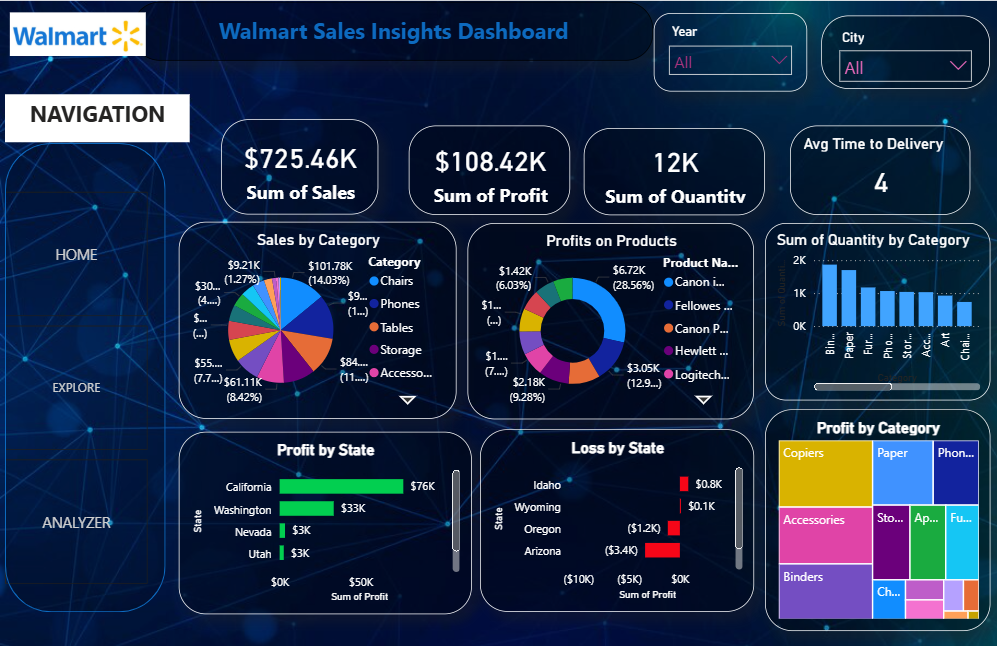

The dashboard page shown, as its layout file describes it:
{"tool":"powerbi","page":{"name":"EXPLORE","canvas":[1280,720],"ordinal":1},"visuals":[{"type":"card","fields":{"Values":["Sum(Walmart.Sales)"]},"box":[424.6,138.8,172.5,105.1],"z":0},{"type":"card","fields":{"Values":["Sum(Walmart.Profit)"]},"box":[630.8,145.6,177.9,98.4],"z":1000},{"type":"card","fields":{"Values":["Sum(Walmart.Quantity)"]},"box":[823.6,148.3,199.5,95.7],"z":2000},{"type":"barChart","title":" Profit by State","fields":{"Category":["Walmart.State"],"Y":["Sum(Walmart.Profit)"]},"box":[378.8,482.6,322.2,200.8],"z":3000},{"type":"barChart","title":" Loss by State","fields":{"Category":["Walmart.State"],"Y":["Sum(Walmart.Profit)"]},"box":[709,479.9,301.9,200.8],"z":4000},{"type":"treemap","title":" Profit by Category","fields":{"Values":["Sum(Walmart.Profit)"],"Group":["Walmart.Category"]},"box":[1023.1,458.3,248,244],"z":5000},{"type":"pieChart","title":"Sales by Category","fields":{"Category":["Walmart.Category"],"Y":["Sum(Walmart.Sales)"]},"box":[378.8,252.1,306,217],"z":6000},{"type":"card","title":"Avg Time to Delivery","fields":{"Values":["Avg(Walmart.Delivery Date)"]},"box":[1050,145.6,198.1,98.4],"z":7000},{"type":"donutChart","title":"Profits on Products","fields":{"Category":["Walmart.Product Name"],"Y":["Sum(Walmart.Profit)"]},"box":[695.5,253.4,315.4,215.7],"z":8000},{"type":"textbox","title":"Walmart Sales Insights Dashboard","box":[327.6,9.4,572.9,64.7],"z":9000},{"type":"slicer","fields":{"Values":["Walmart.City"]},"box":[1094.5,24.3,186,82.2],"z":10000},{"type":"image","box":[168.5,16.2,195.5,58],"z":11000},{"type":"pageNavigator","box":[187.4,218.4,157.7,431.3],"z":12000},{"type":"textbox","box":[187.4,111.9,203.5,52.6],"z":13000},{"type":"shape","box":[187.4,164.4,176.6,516.3],"z":14000},{"type":"columnChart","fields":{"Category":["Walmart.Category"],"Y":["Sum(Walmart.Quantity)"]},"box":[1023.1,253.4,248,195.5],"z":15000},{"type":"slicer","title":"Year","fields":{"Values":["Walmart.Year"]},"box":[908.5,22.9,169.8,87.6],"z":16000}]}

Visuals, with their boxes on the page's 1280x720 design canvas (x1, y1, x2, y2). These are canvas units, not pixel positions in the 997x646 screenshot, which may show the page scaled, cropped or inside an application window:
card - Sum(Walmart.Sales): [x1=425, y1=139, x2=597, y2=244]
card - Sum(Walmart.Profit): [x1=631, y1=146, x2=809, y2=244]
card - Sum(Walmart.Quantity): [x1=824, y1=148, x2=1023, y2=244]
" Profit by State" barChart: [x1=379, y1=483, x2=701, y2=683]
" Loss by State" barChart: [x1=709, y1=480, x2=1011, y2=681]
" Profit by Category" treemap: [x1=1023, y1=458, x2=1271, y2=702]
"Sales by Category" pieChart: [x1=379, y1=252, x2=685, y2=469]
"Avg Time to Delivery" card: [x1=1050, y1=146, x2=1248, y2=244]
"Profits on Products" donutChart: [x1=696, y1=253, x2=1011, y2=469]
"Walmart Sales Insights Dashboard" textbox: [x1=328, y1=9, x2=900, y2=74]
slicer - Walmart.City: [x1=1094, y1=24, x2=1280, y2=106]
image: [x1=168, y1=16, x2=364, y2=74]
pageNavigator: [x1=187, y1=218, x2=345, y2=650]
textbox: [x1=187, y1=112, x2=391, y2=164]
shape: [x1=187, y1=164, x2=364, y2=681]
columnChart - Walmart.Category x Sum(Walmart.Quantity): [x1=1023, y1=253, x2=1271, y2=449]
"Year" slicer: [x1=908, y1=23, x2=1078, y2=110]
